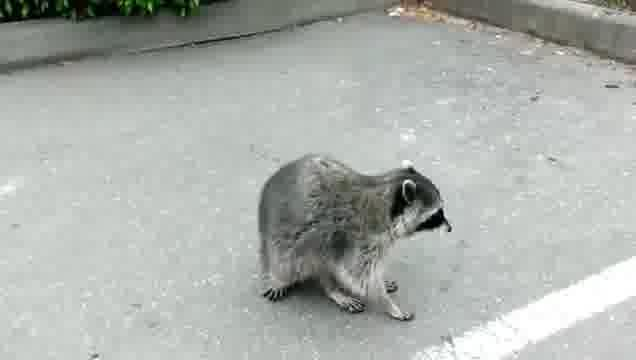raccoon: (257, 152, 455, 323)
